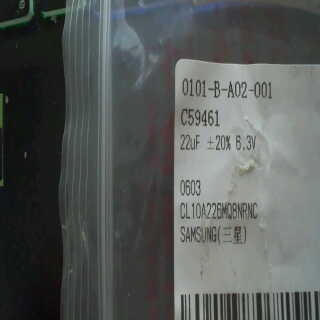22uF: (179, 131, 199, 152)
